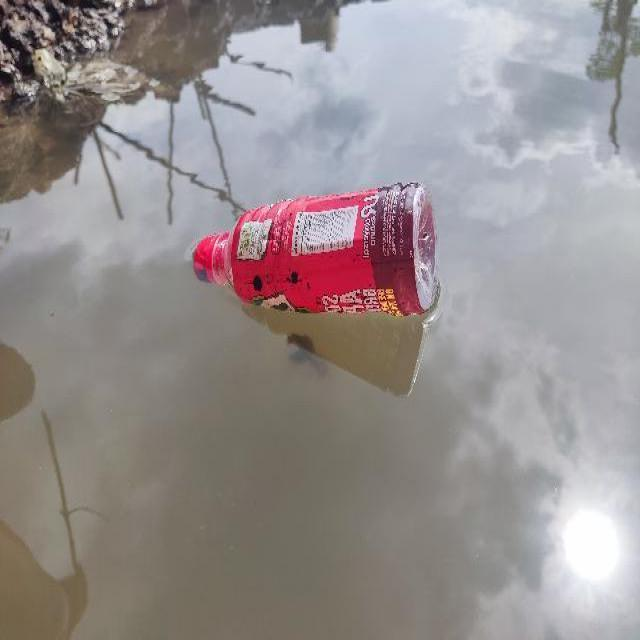Bottle: (172, 176, 456, 332)
